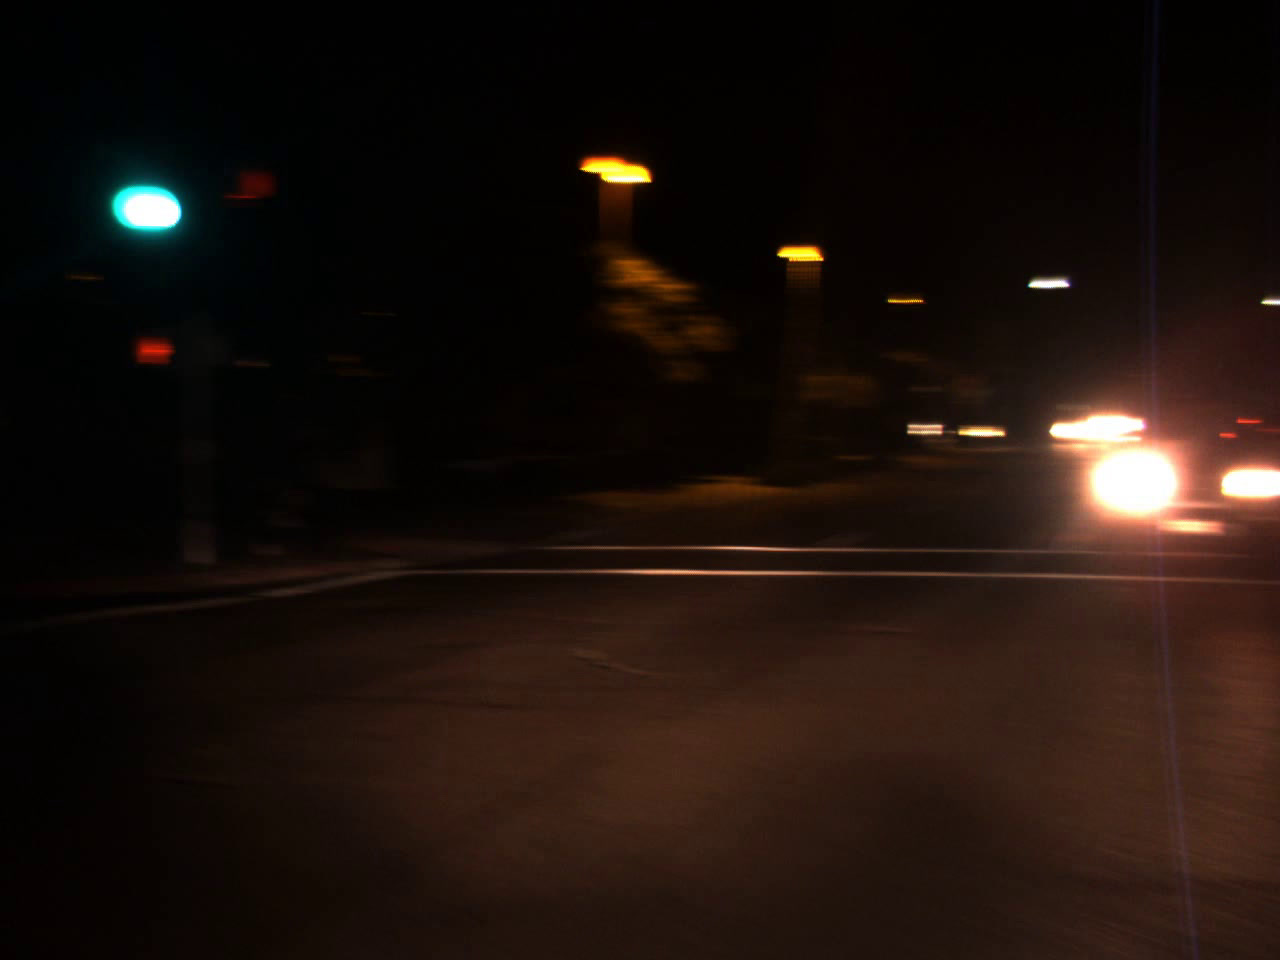go: (105, 131, 191, 242)
